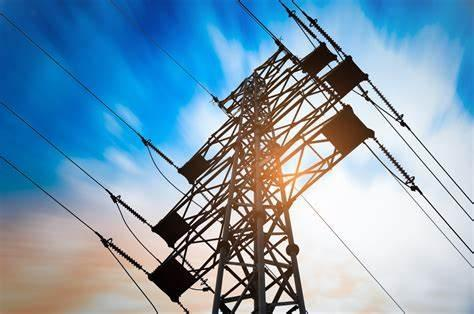power_tower: (108, 35, 395, 314)
